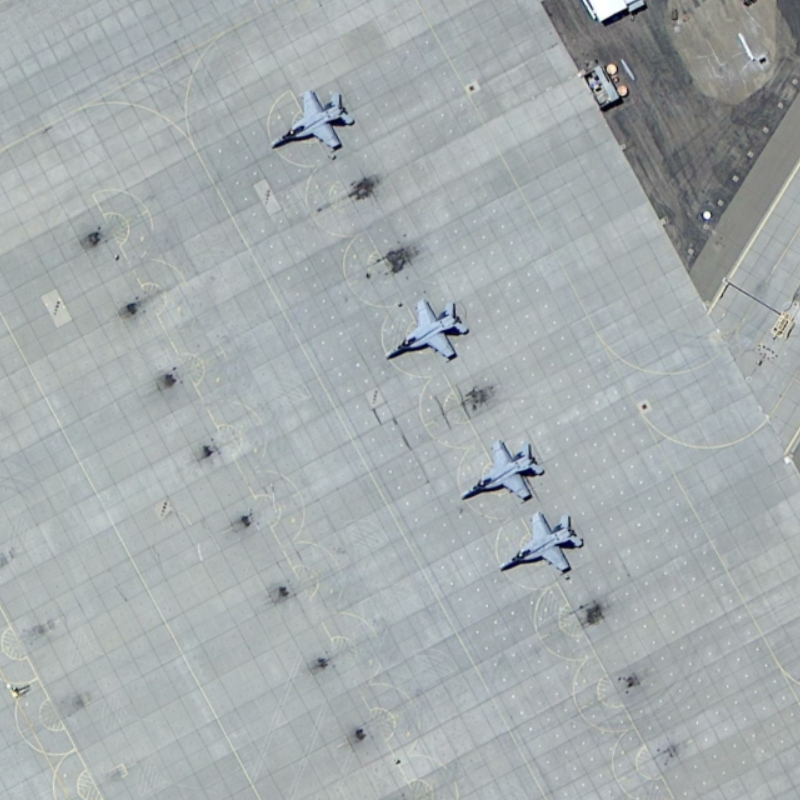A16: (454, 431, 551, 507), (382, 291, 476, 369), (264, 83, 355, 160), (490, 507, 590, 577)
